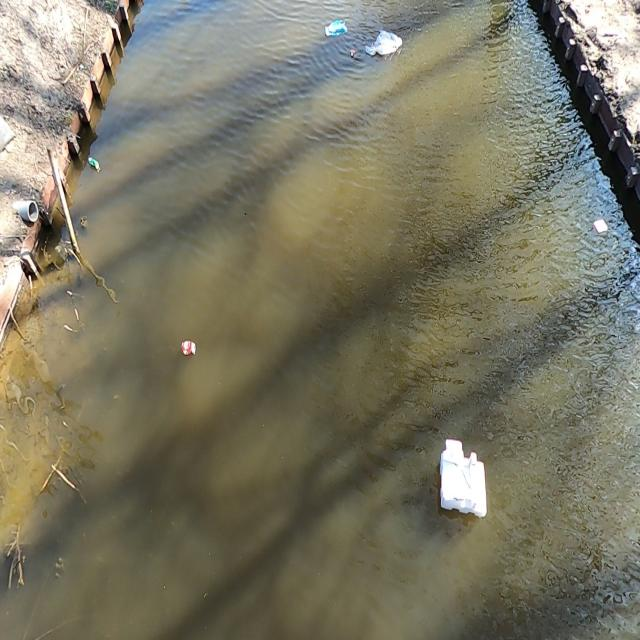Autre plastique: (434, 434, 494, 523)
Non plastique: (178, 339, 202, 362)
Sac plastique: (324, 19, 350, 38)
